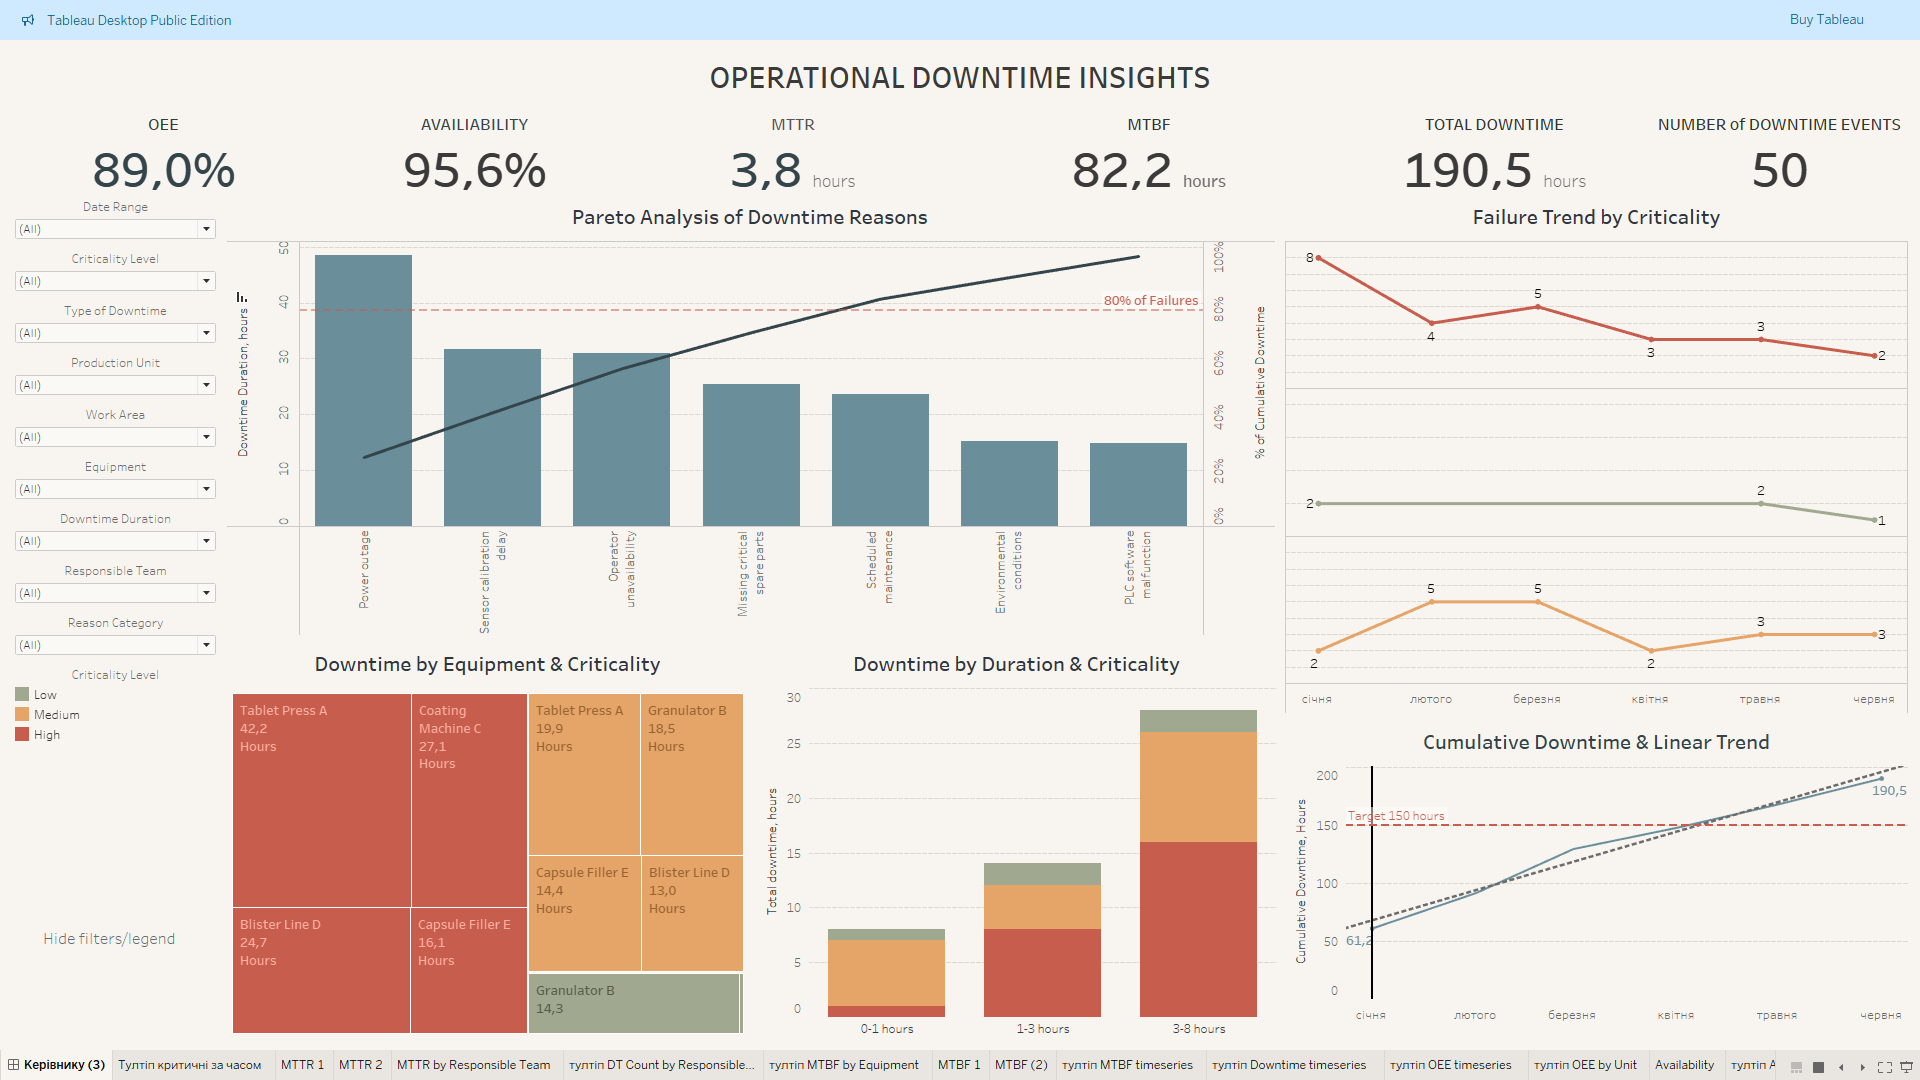

The dashboard page shown, as its layout file describes it:
{"tool":"tableau","page":{"name":"Керівнику (3)","canvas":[1000,1000],"units":"permille","ordinal":3},"visuals":[{"type":"worksheet","title":"Titel","mark":"Automatic","box":[4.7,9.3,990.6,56.7]},{"type":"worksheet","title":"ОЕЕ","mark":"Automatic","box":[4.7,65.9,173.5,88]},{"type":"worksheet","title":"Availability","mark":"Automatic","box":[178.2,65.9,173.5,88]},{"type":"worksheet","title":"MTTR 1","mark":"Automatic","box":[351.7,65.9,173.5,88]},{"type":"worksheet","title":"MTBF 1","mark":"Automatic","box":[525.1,65.9,173.5,88]},{"type":"worksheet","title":"Total Downtime (Hours)","mark":"Automatic","box":[698.6,65.9,178.5,88]},{"type":"worksheet","title":"Number of Downtime Events","mark":"Automatic","box":[877.1,65.9,118.2,88]},{"type":"filter","title":"Downtime Distribution by Duration","param":"[federated.0y9874m1vjenb21gn2x3t1bb7pin].[my:start_time:ok]","box":[4.7,153.9,111.7,60.2]},{"type":"worksheet","title":"Paretto downtime","mark":"Bar","rows":["Calculation_921549101692293126","Calculation_921549101692293126"],"cols":["reason_name"],"box":[116.4,153.9,550.5,440.7]},{"type":"worksheet","title":"Failure Trend by Criticality","mark":"Automatic","rows":["Calculation_921549105933705239","event_id"],"cols":["start_time"],"box":[666.8,153.9,328.5,534.7]},{"type":"filter","title":"Downtime Distribution by Duration","param":"[federated.0y9874m1vjenb21gn2x3t1bb7pin].[none:Calculation_921549105933705239:nk","box":[4.7,214.1,111.7,60.2]},{"type":"filter","title":"Downtime Distribution by Duration","param":"[federated.0y9874m1vjenb21gn2x3t1bb7pin].[none:critical:nk]","box":[4.7,274.3,111.7,60.2]},{"type":"filter","title":"Downtime Distribution by Duration","param":"[federated.0y9874m1vjenb21gn2x3t1bb7pin].[none:farm:nk]","box":[4.7,334.5,111.7,60.2]},{"type":"filter","title":"Downtime Distribution by Duration","param":"[federated.0y9874m1vjenb21gn2x3t1bb7pin].[none:zone:nk]","box":[4.7,394.7,111.7,60.2]},{"type":"filter","title":"Downtime Distribution by Duration","param":"[federated.0y9874m1vjenb21gn2x3t1bb7pin].[none:equipment_name:nk]","box":[4.7,454.9,111.7,60.2]},{"type":"filter","title":"Downtime Distribution by Duration","param":"[federated.0y9874m1vjenb21gn2x3t1bb7pin].[none:Calculation_839358425392717838:nk","box":[4.7,515.1,111.7,60.2]},{"type":"filter","title":"MTTR 1","param":"[federated.0y9874m1vjenb21gn2x3t1bb7pin].[none:responsible_team:nk]","box":[4.7,575.2,111.7,60.2]},{"type":"worksheet","title":"Downtime by Equipment","mark":"Automatic","box":[116.4,594.6,275.2,396.1]},{"type":"worksheet","title":"Downtime Distribution by Duration","mark":"Automatic","rows":["event_id"],"cols":["Calculation_839358425392717838"],"box":[391.6,594.6,275.3,396.1]},{"type":"filter","title":"Paretto downtime","param":"[federated.0y9874m1vjenb21gn2x3t1bb7pin].[none:reason_category:nk]","box":[4.7,635.4,111.7,60.2]},{"type":"worksheet","title":"Cumulative Downtime","mark":"Automatic","rows":["Calculation_921549101692293126"],"cols":["start_time"],"box":[666.8,688.6,328.5,302.1]},{"type":"legend","title":"Downtime Distribution by Duration","param":"[federated.0y9874m1vjenb21gn2x3t1bb7pin].[none:Calculation_921549105933705239:nk","box":[4.7,695.6,111.7,99.5]},{"type":"dashboard-object","box":[10,872.7,94.2,33.6]}]}

Visuals, with their boxes on the dashboard's canvas, which has no fixed pixel size, in thousandths of its width and height (x1, y1, x2, y2). These are canvas units, not pixel positions in the 1920x1080 screenshot, which may show the page scaled, cropped or inside an application window:
"Titel" worksheet: Rect(5, 9, 995, 66)
"ОЕЕ" worksheet: Rect(5, 66, 178, 154)
"Availability" worksheet: Rect(178, 66, 352, 154)
"MTTR 1" worksheet: Rect(352, 66, 525, 154)
"MTBF 1" worksheet: Rect(525, 66, 699, 154)
"Total Downtime (Hours)" worksheet: Rect(699, 66, 877, 154)
"Number of Downtime Events" worksheet: Rect(877, 66, 995, 154)
"Downtime Distribution by Duration" filter: Rect(5, 154, 116, 214)
"Paretto downtime" worksheet (Bar marks): Rect(116, 154, 667, 595)
"Failure Trend by Criticality" worksheet: Rect(667, 154, 995, 689)
"Downtime Distribution by Duration" filter: Rect(5, 214, 116, 274)
"Downtime Distribution by Duration" filter: Rect(5, 274, 116, 334)
"Downtime Distribution by Duration" filter: Rect(5, 334, 116, 395)
"Downtime Distribution by Duration" filter: Rect(5, 395, 116, 455)
"Downtime Distribution by Duration" filter: Rect(5, 455, 116, 515)
"Downtime Distribution by Duration" filter: Rect(5, 515, 116, 575)
"MTTR 1" filter: Rect(5, 575, 116, 635)
"Downtime by Equipment" worksheet: Rect(116, 595, 392, 991)
"Downtime Distribution by Duration" worksheet: Rect(392, 595, 667, 991)
"Paretto downtime" filter: Rect(5, 635, 116, 696)
"Cumulative Downtime" worksheet: Rect(667, 689, 995, 991)
"Downtime Distribution by Duration" legend: Rect(5, 696, 116, 795)
dashboard-object: Rect(10, 873, 104, 906)
